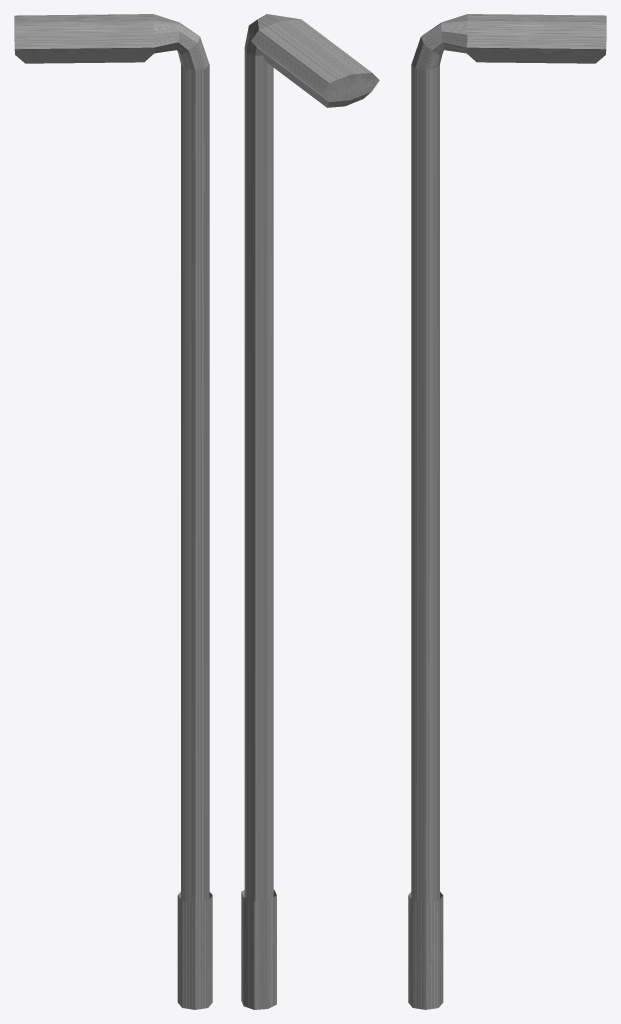
The model's file is streetlight.fbx.
3 renders of one model, left to right at view 1: azimuth 90°, elevation 25°; view 2: azimuth 210°, elevation 25°; view 3: azimuth 270°, elevation 25°, orthographic.
Visible parts, largest first — view 1: Plane; view 2: Plane; view 3: Plane.
Boxes of the visible parts, left/top/right/bottom form: Plane: left=14, top=14, right=212, bottom=1009; Plane: left=241, top=14, right=379, bottom=1009; Plane: left=408, top=14, right=606, bottom=1009.
Size of the model in its own units: 212 by 3476 by 637.
